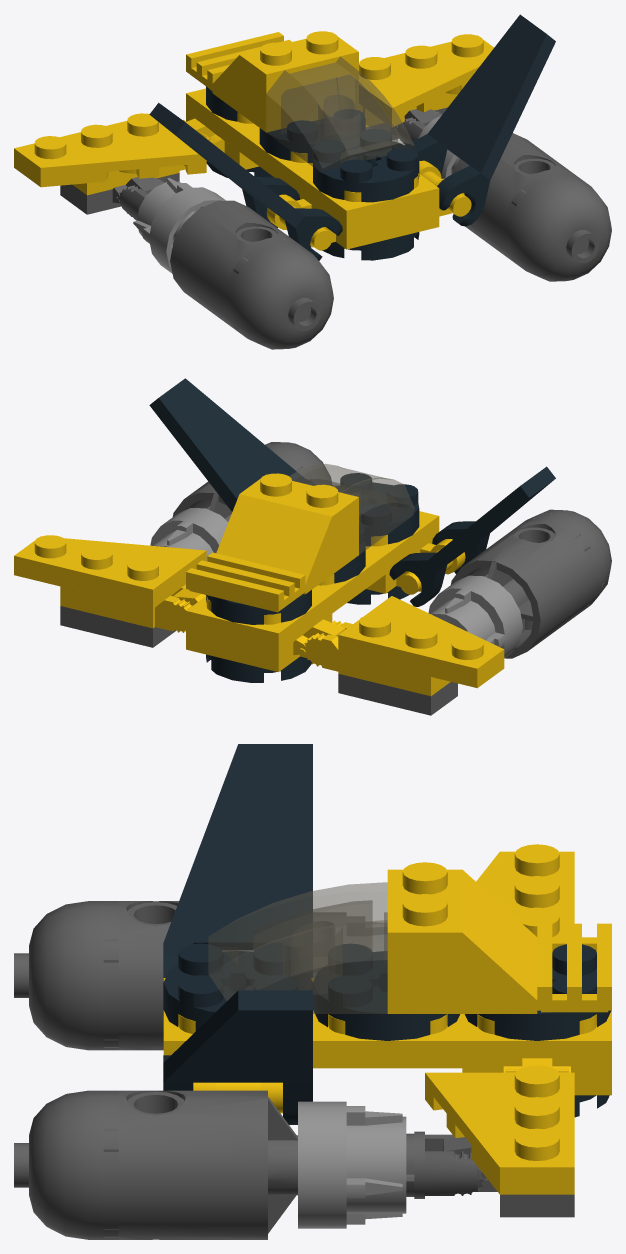
The model's file is 009-4882_Speed_Wings-Model_A.lxf.glb.
3 views of the same model, one above another, from view 1: azimuth 30°, elevation 25°; view 2: azimuth 150°, elevation 25°; view 3: azimuth 270°, elevation 25° (orthographic). The views are drawn at different scales.
Parts seen in each view (by area): view 1: 30367c.dat (×2), 44676a.dat (×2), 30361d.dat (×2), 30602.dat, 4032a.dat (×4), 3040b.dat (×2), 43723.dat, 43722.dat, 3795.dat, 32187.dat (×2), 2540.dat (×2), 44567b.dat (×3) (+3 smaller); view 2: 44676a.dat (×2), 3040b.dat (×2), 30361d.dat (×2), 43722.dat, 43723.dat, 4032a.dat (×5), 44567b.dat (×4), 3795.dat, 32187.dat (×2), 44302b.dat (×2), 2412b.dat, 30602.dat (+2 smaller); view 3: 44676a.dat (×2), 30361d.dat (×2), 30367c.dat (×2), 3040b.dat (×2), 4032a.dat (×3), 30602.dat, 43722.dat, 32187.dat (×2), 3795.dat, 43723.dat, 2412b.dat, 44567b.dat (×2) (+2 smaller).
Boxes of the visible parts, x1,y1,x2,y2 form: 30367c.dat (×2): [223, 172, 611, 349]; 44676a.dat (×2): [149, 14, 555, 260]; 30361d.dat (×2): [170, 133, 585, 334]; 30602.dat: [266, 56, 414, 171]; 4032a.dat (×4): [206, 86, 419, 260]; 3040b.dat (×2): [212, 31, 358, 132]; 43723.dat: [14, 113, 206, 187]; 43722.dat: [359, 34, 493, 126]; 3795.dat: [186, 88, 439, 229]; 32187.dat (×2): [133, 110, 459, 273]; 2540.dat (×2): [266, 160, 471, 250]; 44567b.dat (×3): [60, 107, 447, 214]; 44676a.dat (×2): [149, 378, 555, 606]; 3040b.dat (×2): [216, 473, 358, 594]; 30361d.dat (×2): [172, 460, 594, 658]; 43722.dat: [14, 535, 206, 608]; 43723.dat: [338, 596, 504, 688]; 4032a.dat (×5): [206, 473, 419, 682]; 44567b.dat (×4): [60, 588, 457, 715]; 3795.dat: [186, 511, 439, 652]; 32187.dat (×2): [150, 508, 522, 658]; 44302b.dat (×2): [60, 584, 450, 696]; 2412b.dat: [186, 552, 305, 612]; 30602.dat: [289, 463, 414, 554]; 44676a.dat (×2): [163, 744, 312, 1124]; 30361d.dat (×2): [103, 901, 297, 1239]; 30367c.dat (×2): [14, 901, 118, 1239]; 3040b.dat (×2): [387, 862, 537, 1013]; 4032a.dat (×3): [163, 943, 610, 1040]; 30602.dat: [208, 882, 387, 1013]; 43722.dat: [425, 1065, 574, 1194]; 32187.dat (×2): [298, 912, 406, 1228]; 3795.dat: [163, 978, 611, 1068]; 43723.dat: [476, 844, 574, 937]; 2412b.dat: [537, 923, 611, 1012]; 44567b.dat (×2): [442, 1058, 611, 1217].
Size of the model in its own units: 0.08 by 0.032 by 0.064.
